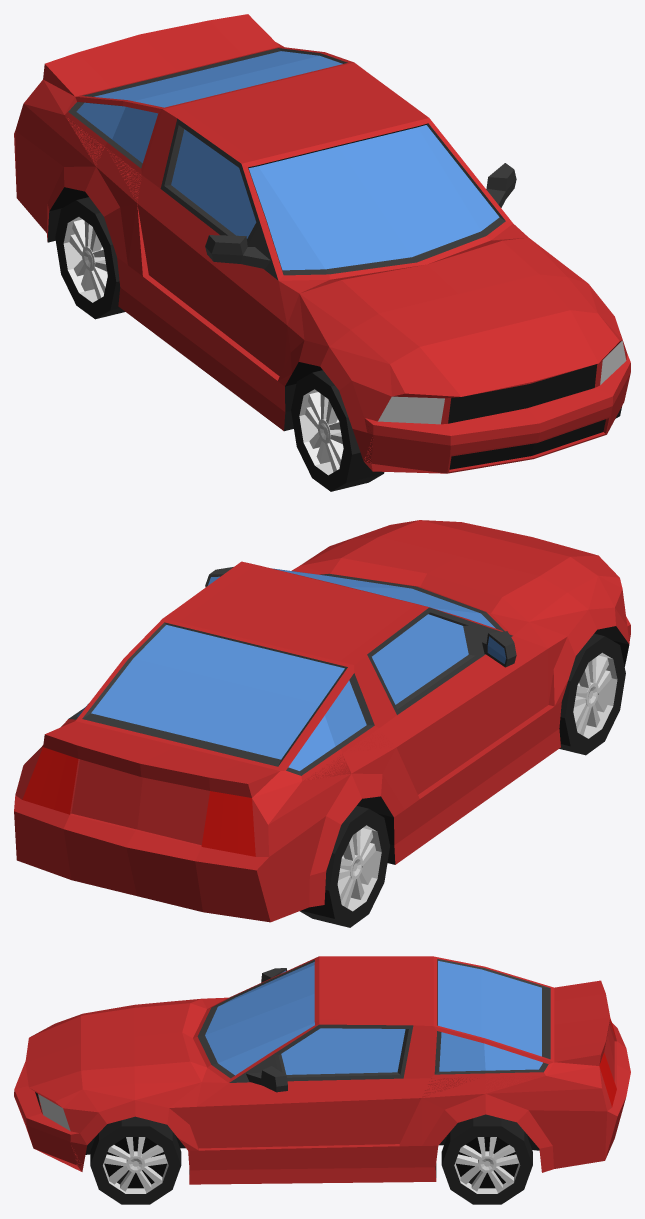
Rendered from mustang3.fbx.
3 views of the same model, one above another, from view 1: azimuth 30°, elevation 25°; view 2: azimuth 150°, elevation 25°; view 3: azimuth 270°, elevation 25° (orthographic). The views are drawn at different scales.
Visible parts, largest first — view 1: Body, FR, RR; view 2: Body, RR, FR; view 3: Body, RL, FL.
Boxes of the visible parts, x1,y1,x2,y2 form: Body: (14, 14, 630, 473); FR: (291, 370, 384, 491); RR: (55, 197, 125, 319); Body: (14, 520, 630, 922); RR: (300, 806, 389, 927); FR: (559, 633, 625, 755); Body: (14, 956, 630, 1184); RL: (441, 1114, 532, 1204); FL: (90, 1116, 181, 1204).
Size of the model in its own units: 212 by 147 by 499.
